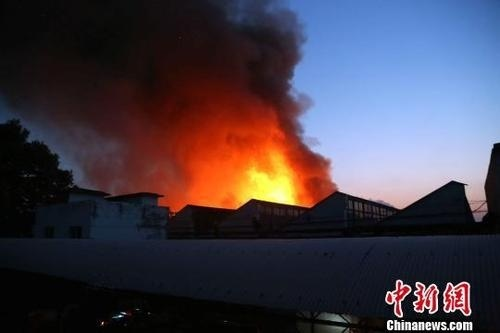fire: (224, 147, 318, 209)
